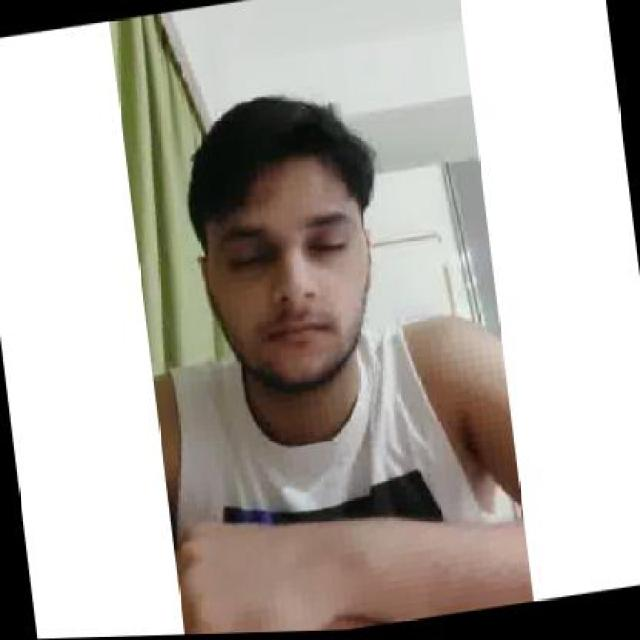inattentif: (176, 83, 384, 400)
